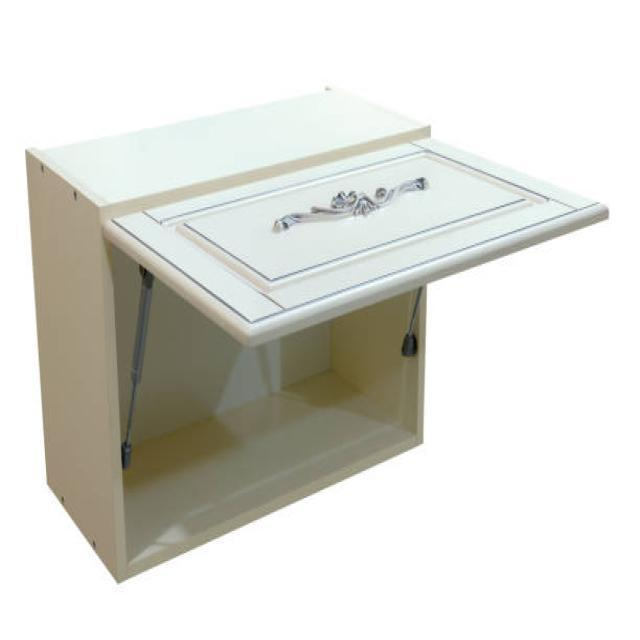table: (24, 81, 609, 584)
